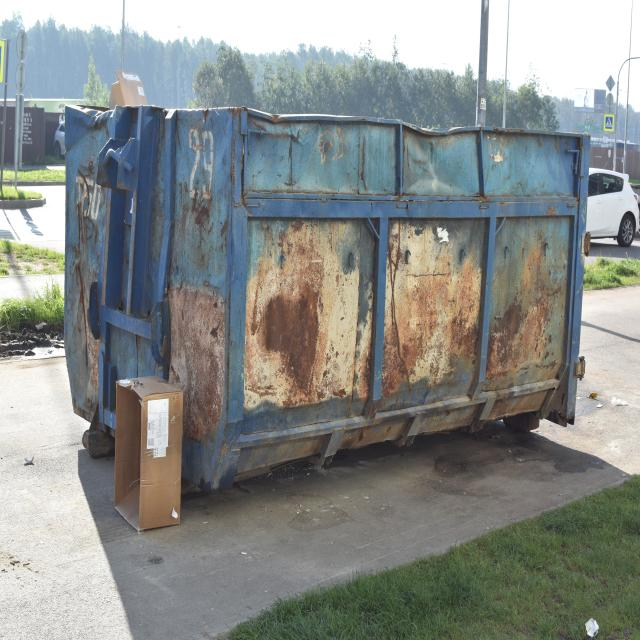entulho: (115, 377, 185, 534)
lixo domiciliar: (611, 395, 628, 407), (23, 456, 35, 466), (588, 392, 598, 400), (596, 403, 604, 408)
